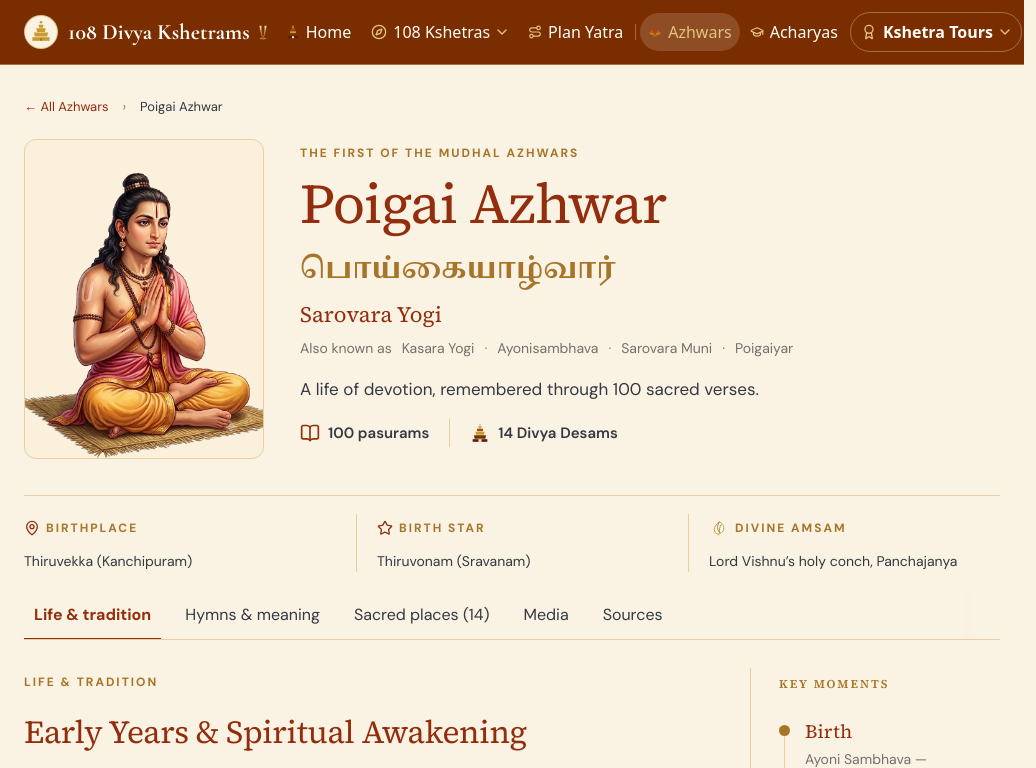
Test: Unavailable repository domain (link-audit L2) › Sources rows cite dravidaveda.org without an active link
Step 1. Click the tab "Sources" → {"x": 633, "y": 616}, box [593,592,672,640]
(page scrolled)
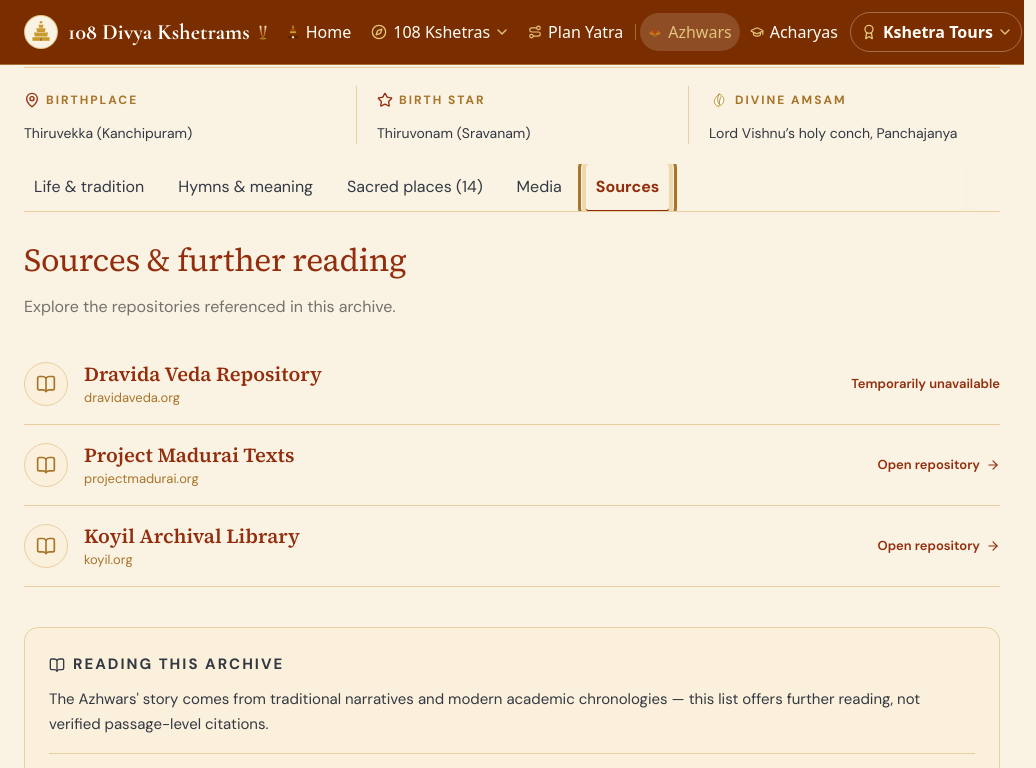
Expected: the list item "Dravida Veda Repository" shows "dravidaveda.org", [84,389,180,406]
Expected: the text "Temporarily unavailable" is shown, [851,374,1000,394]
